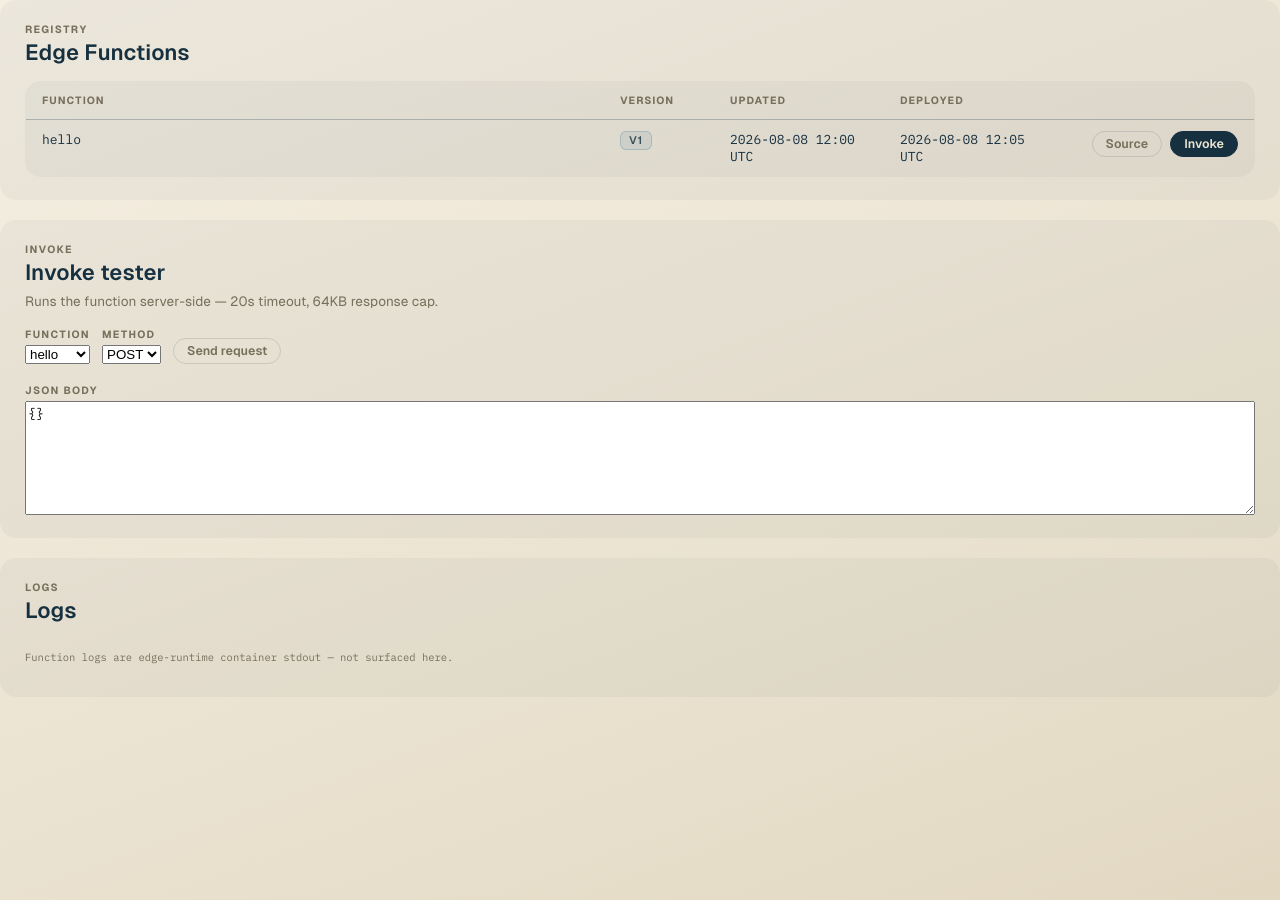
Test: FunctionsConsole — invoke tester › a 502 from the proxy renders the honest edge-runtime-down state
Click the button "Send request" at (227, 351), box [173,338,282,364]
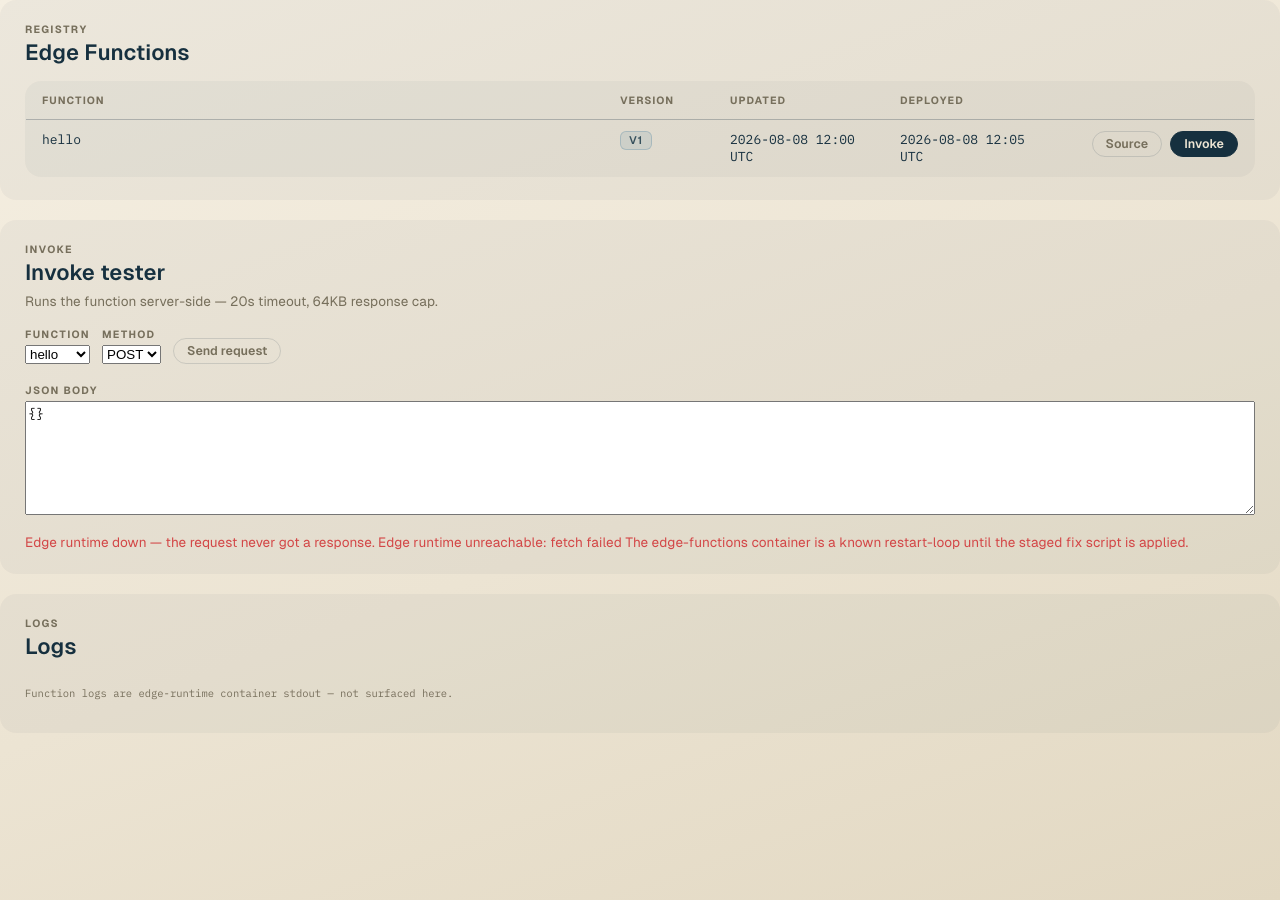
expect the text "Edge runtime down" shows "restart-loop": met, box [25,535,1188,550]
